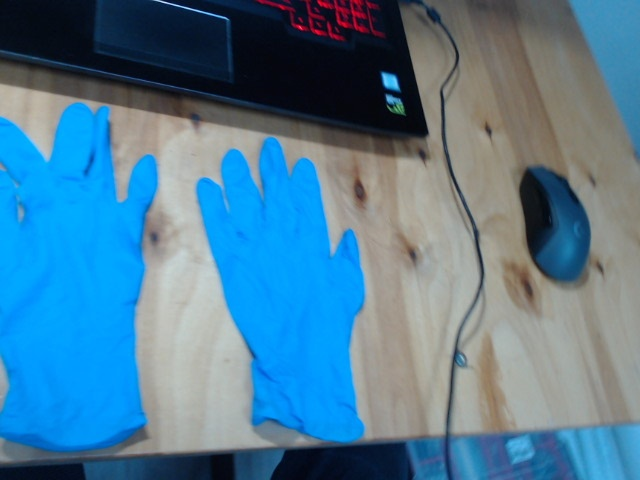medical_glove: (1, 101, 158, 450), (197, 137, 364, 441)
